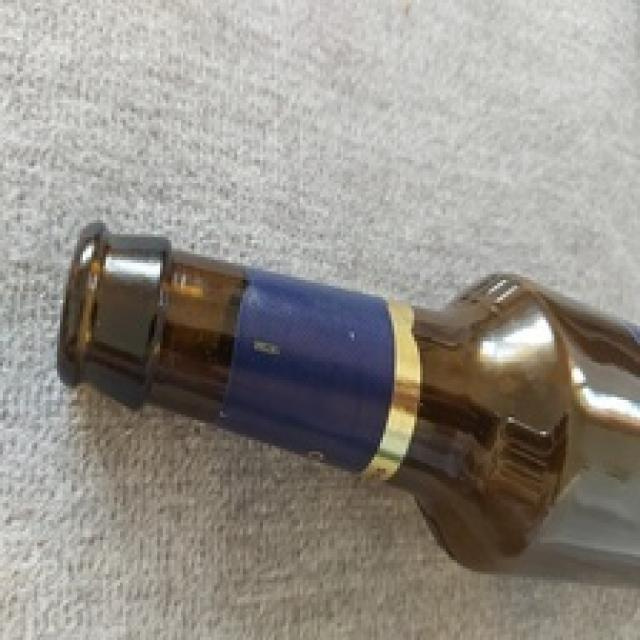Glass: (57, 220, 640, 585)
